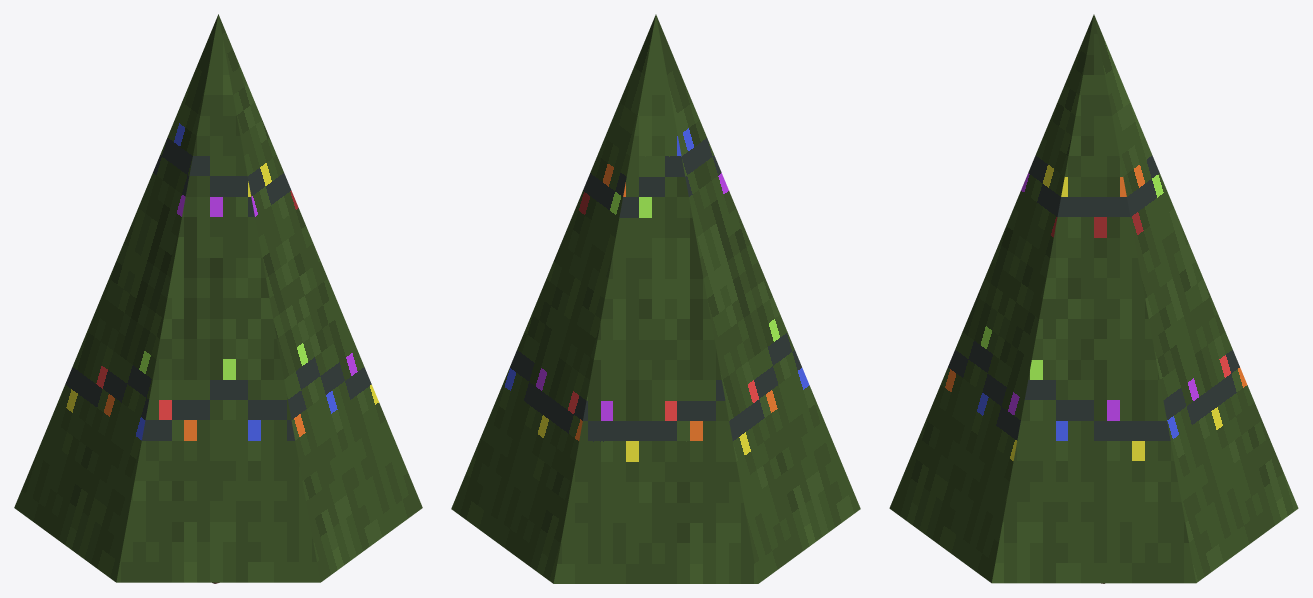
The model's file is Tree.gltf.
3 renders of one model, left to right at view 1: azimuth 30°, elevation 25°; view 2: azimuth 150°, elevation 25°; view 3: azimuth 270°, elevation 25°, orthographic.
Visible parts, largest first — view 1: Cone; view 2: Cone; view 3: Cone.
Boxes of the visible parts, bbox=[...] form: Cone: bbox=[14, 14, 422, 582]; Cone: bbox=[451, 14, 860, 583]; Cone: bbox=[889, 14, 1298, 583].
Bounding box in the file's own units: 1.04 × 1.8 × 1.2.
Materials: 1 (1 with a texture image).
